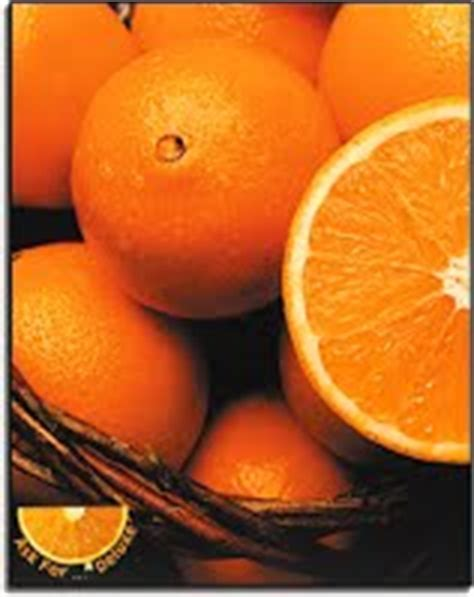orange: (65, 31, 341, 326)
